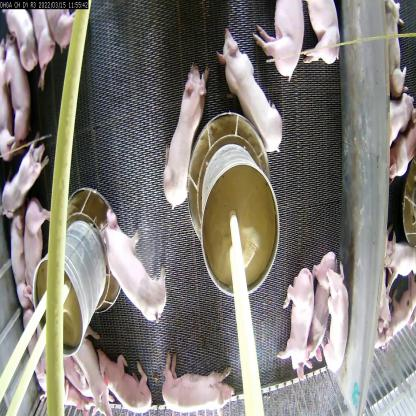Pig: (95, 207, 167, 327), (218, 27, 286, 152), (159, 62, 209, 205), (157, 357, 234, 416), (0, 139, 55, 220), (63, 330, 113, 416), (257, 0, 304, 89), (92, 342, 152, 411), (280, 259, 313, 384), (306, 240, 336, 365), (3, 223, 40, 312), (321, 269, 352, 373), (303, 0, 342, 81), (20, 204, 56, 289), (3, 10, 44, 76), (4, 46, 29, 140)
